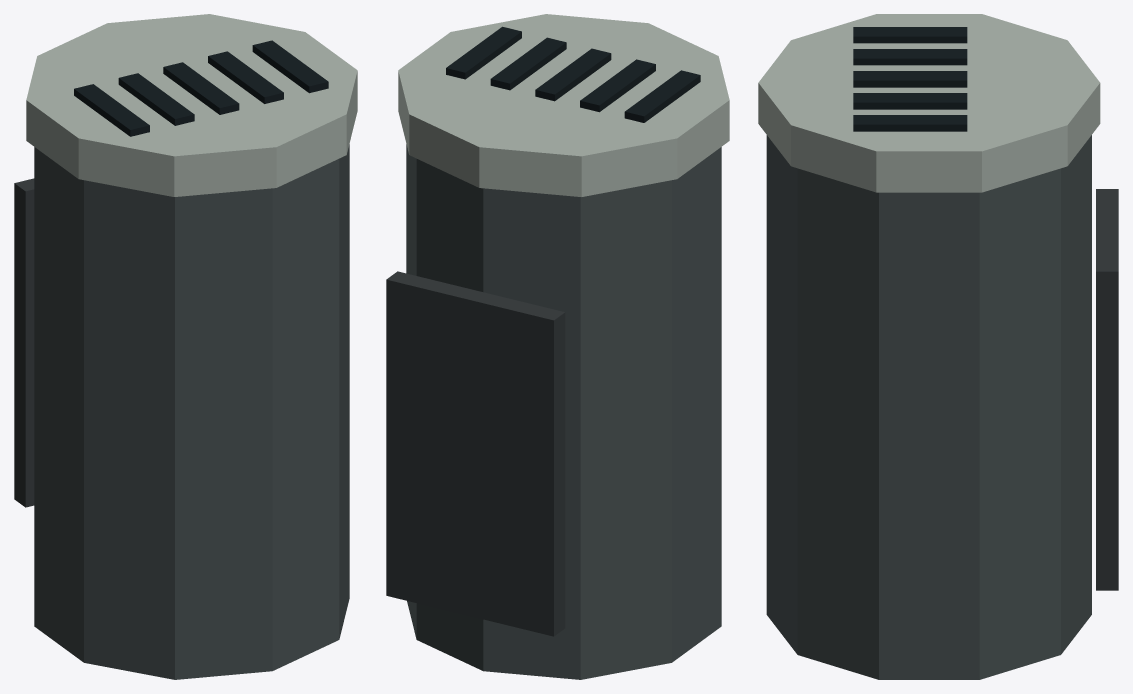
The model's file is blender_incense_2.glb.
3 renders of one model, left to right at view 1: azimuth 30°, elevation 25°; view 2: azimuth 150°, elevation 25°; view 3: azimuth 270°, elevation 25°, orthographic.
Parts seen in each view (by area): view 1: blender_incense_2; view 2: blender_incense_2; view 3: blender_incense_2.
Boxes of the visible parts, bbox=[...] form: blender_incense_2: bbox=[14, 14, 357, 679]; blender_incense_2: bbox=[386, 14, 729, 679]; blender_incense_2: bbox=[758, 14, 1118, 679].
Size of the model in its own units: 0.0859 by 0.157 by 0.0952.
1 material, 1 textured.
